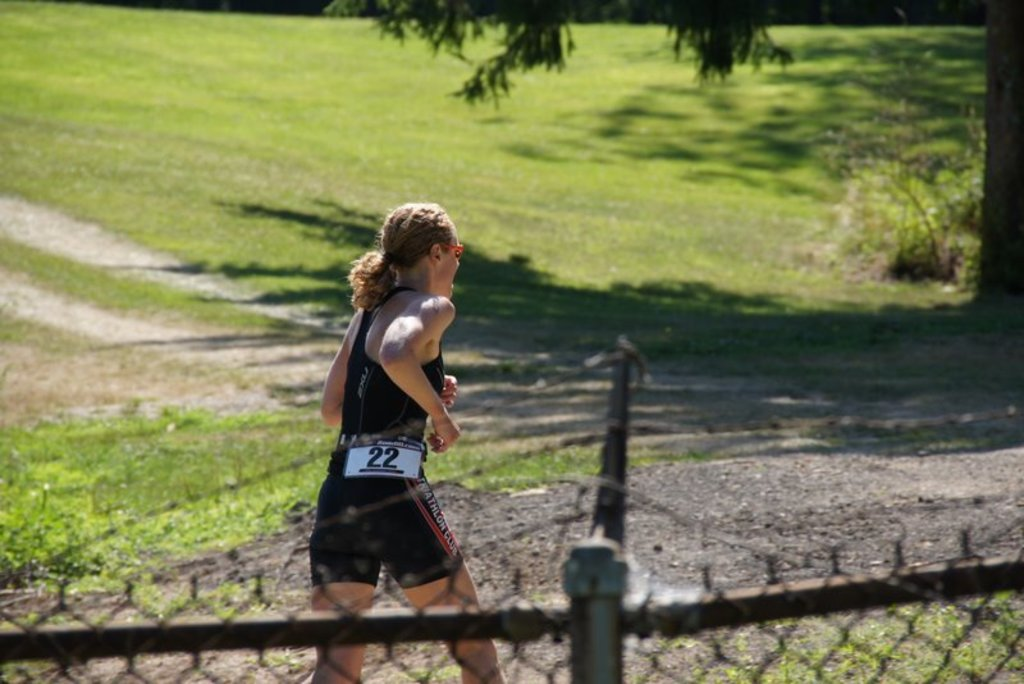Tree: (326, 0, 1022, 294)
